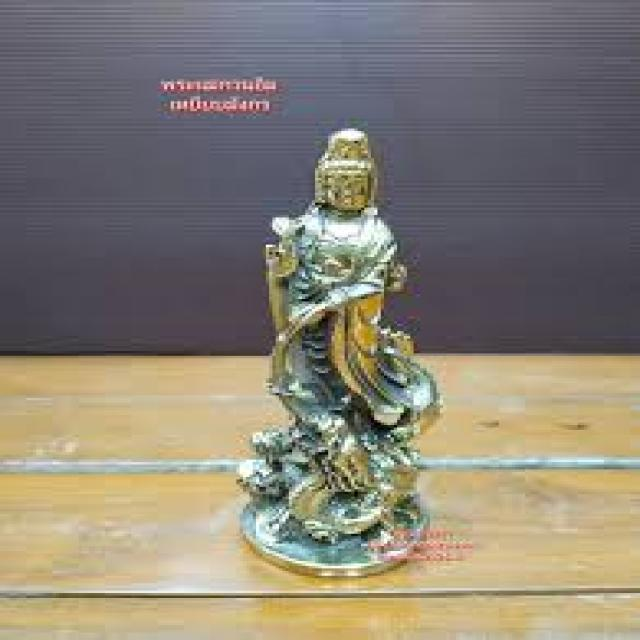Guan Yin: (256, 128, 432, 456)
